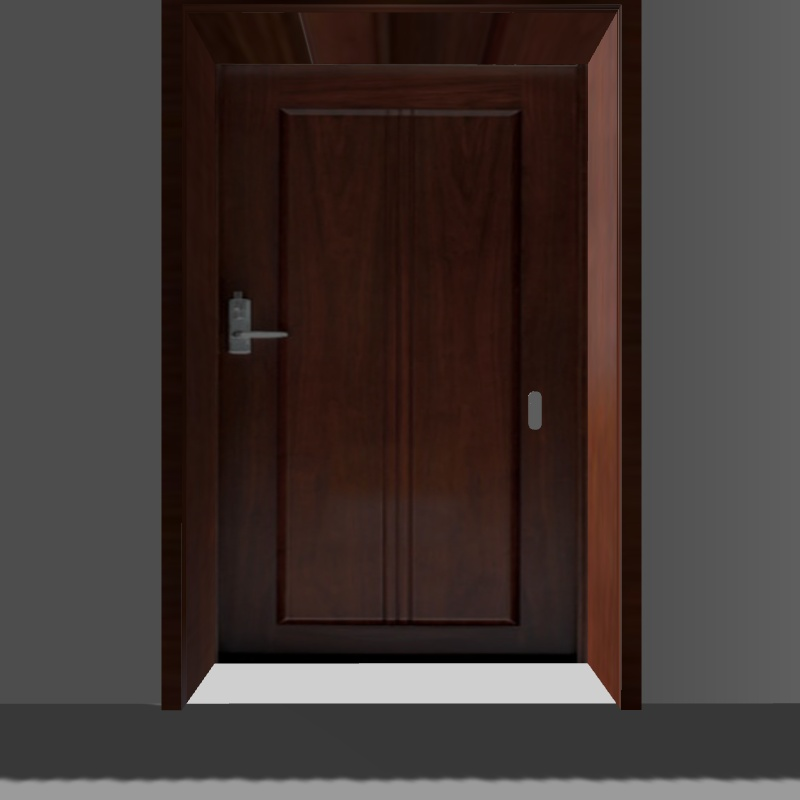handle: (216, 291, 289, 359)
